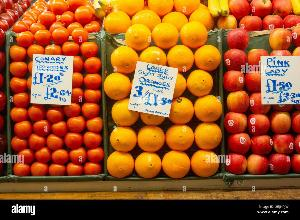apple: (218, 1, 300, 176)
orange: (106, 1, 214, 176)
tomato: (7, 0, 109, 176)
